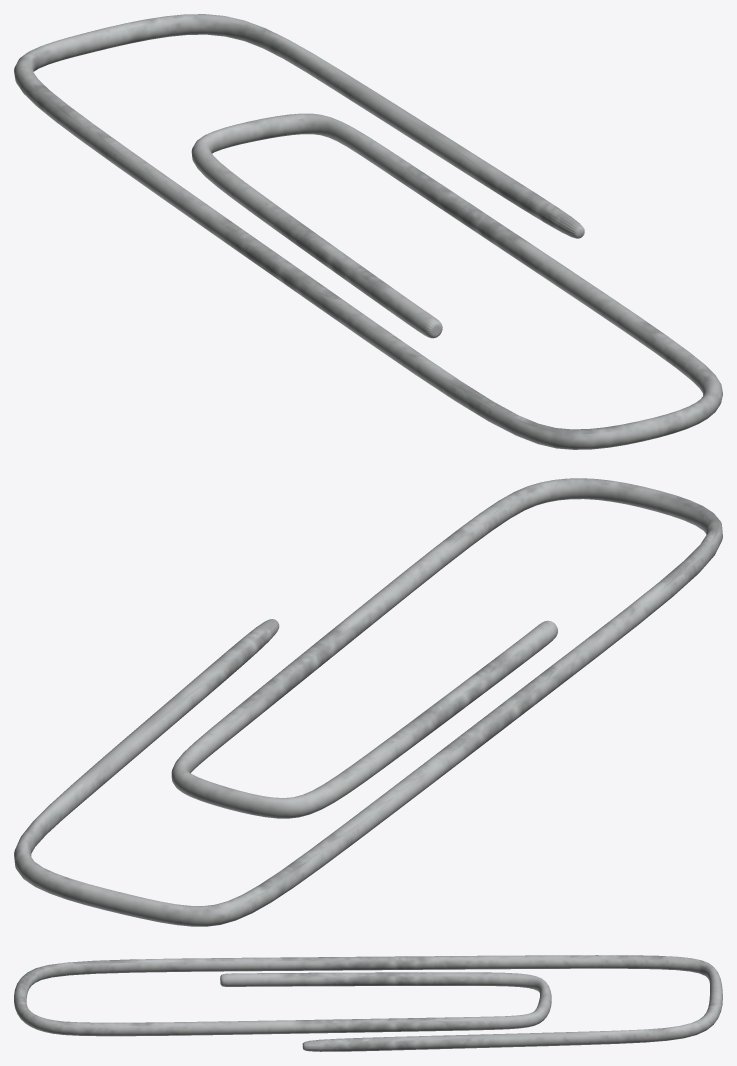
File: Paper_Clip.fbx
3 renders of one model, top to bottom at view 1: azimuth 30°, elevation 25°; view 2: azimuth 150°, elevation 25°; view 3: azimuth 270°, elevation 25°, orthographic. The views are drawn at different scales.
Visible parts, largest first — view 1: Paper_Clip_Basic; view 2: Paper_Clip_Basic; view 3: Paper_Clip_Basic.
Part boxes in pixels (x1,y1,x2,y2): Paper_Clip_Basic: [14, 14, 722, 449]; Paper_Clip_Basic: [14, 478, 722, 926]; Paper_Clip_Basic: [14, 955, 722, 1051].
Bounding box in the file's own units: 0.0187 × 0.0012 × 0.0626.
Materials: 1 (1 with a texture image).
